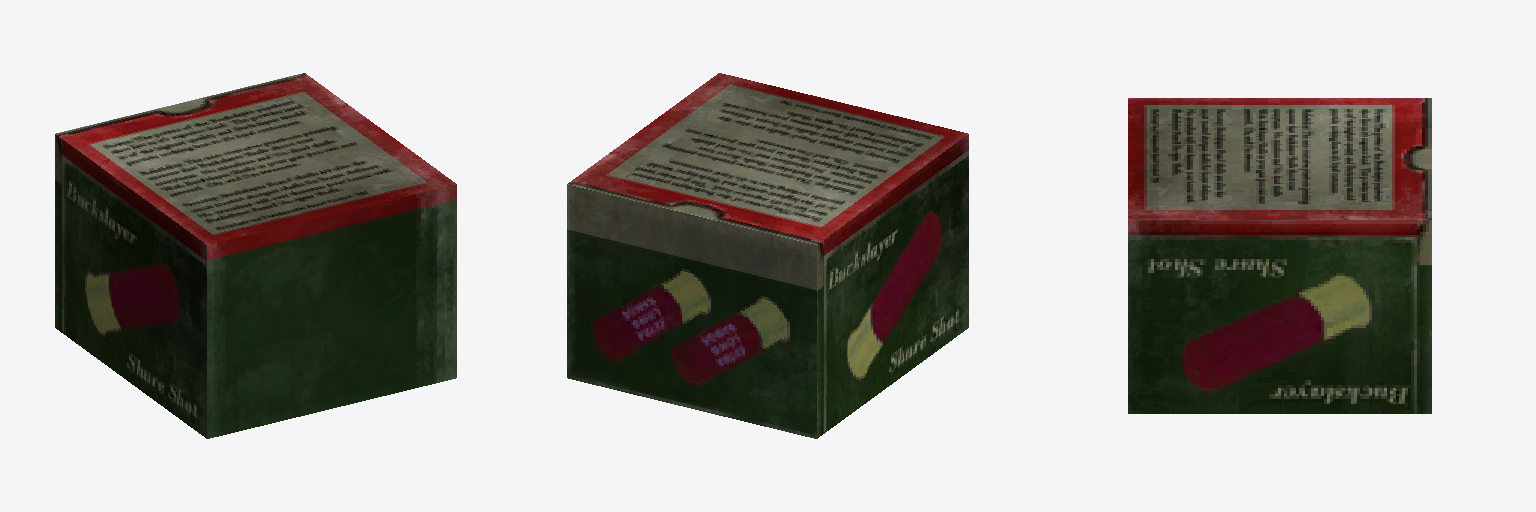
The picture shows the model from 3 angles: view 1: azimuth 30°, elevation 25°; view 2: azimuth 150°, elevation 25°; view 3: azimuth 270°, elevation 25°; orthographic projection.
Parts seen in each view (by area): view 1: 12gauge_shotgun_shell; view 2: 12gauge_shotgun_shell; view 3: 12gauge_shotgun_shell.
Part boxes in pixels (x1,y1,x2,y2): 12gauge_shotgun_shell: (55,73,456,438); 12gauge_shotgun_shell: (567,73,968,438); 12gauge_shotgun_shell: (1128,98,1431,413).
Size of the model in its own units: 8.3 by 6.16 by 8.77.
Materials: 1 (1 with a texture image).